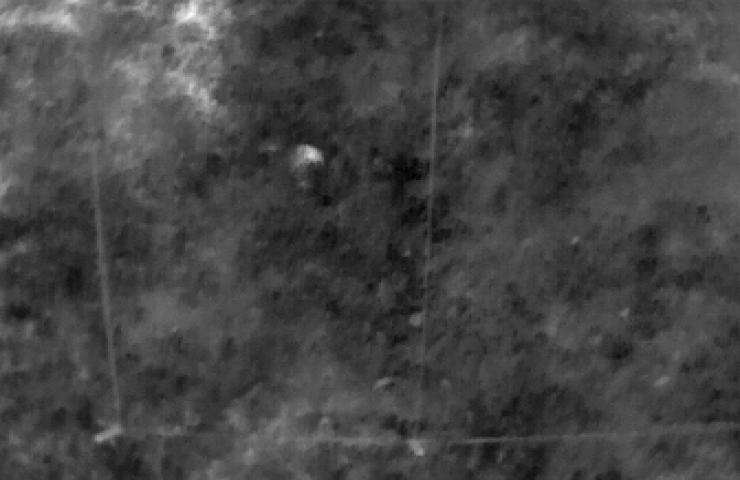landmines: (298, 143, 326, 170)
